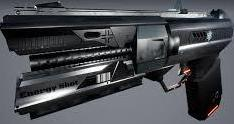gun: (1, 1, 234, 124)
